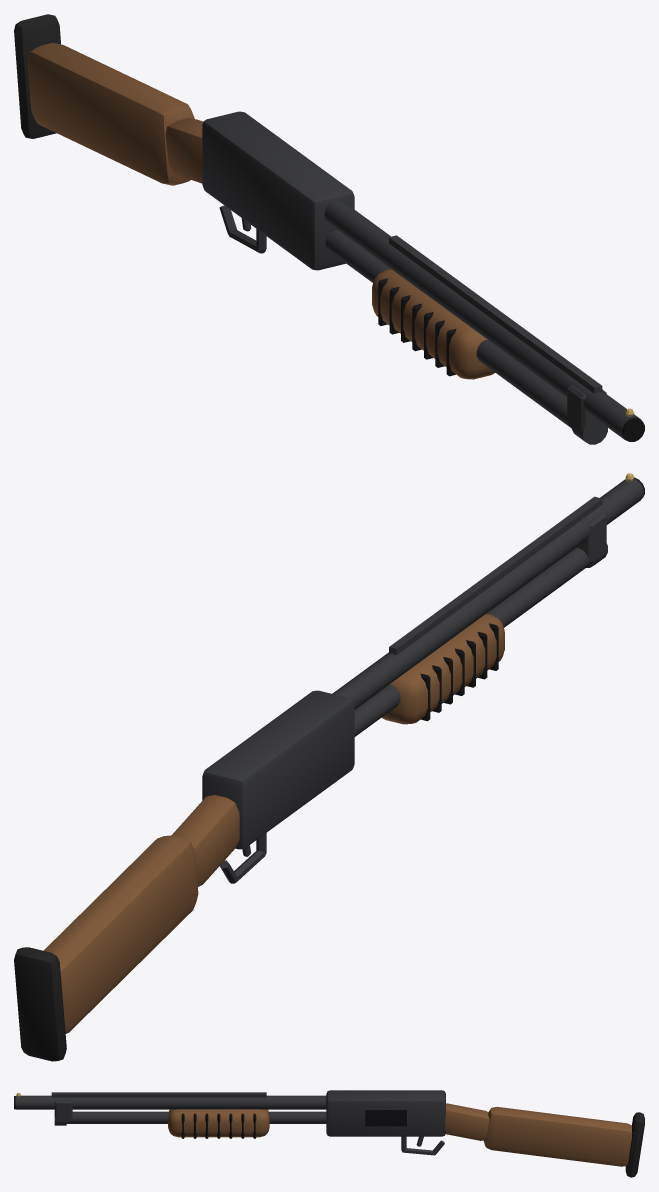
File: weapon_shotgun.glb
3 views of the same model, one above another, from view 1: azimuth 30°, elevation 25°; view 2: azimuth 150°, elevation 25°; view 3: azimuth 270°, elevation 25° (orthographic). The views are drawn at different scales.
Visible parts, largest first — view 1: Shotgun, Pump; view 2: Shotgun, Pump; view 3: Shotgun, Pump.
Part boxes in pixels (<box>): Shotgun: <box>14,14,644,444</box>; Pump: <box>372,268,495,379</box>; Shotgun: <box>14,473,644,1061</box>; Pump: <box>381,613,504,724</box>; Shotgun: <box>14,1090,644,1177</box>; Pump: <box>168,1109,269,1138</box>.
Size of the model in its own units: 0.052 by 0.1505 by 1.06.
